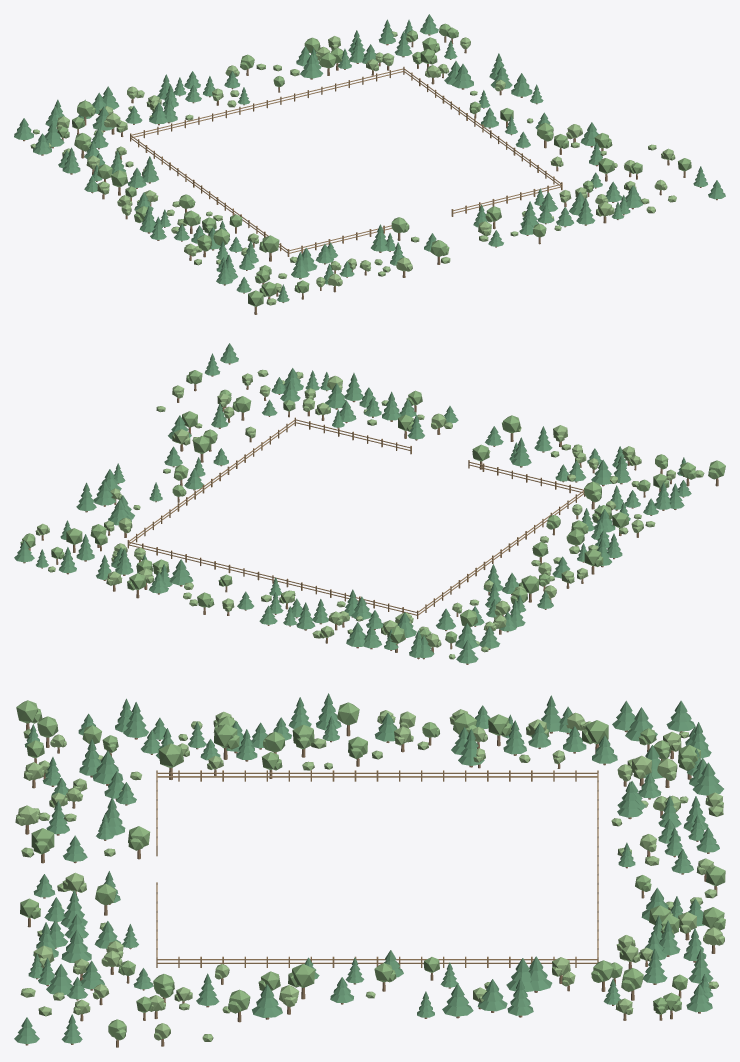
Rendered from Border.fbx.
3 renders of one model, top to bottom at view 1: azimuth 30°, elevation 25°; view 2: azimuth 150°, elevation 25°; view 3: azimuth 270°, elevation 25°, orthographic. The views are drawn at different scales.
Visible parts, largest first — view 1: Env_Fence; view 2: Env_Fence; view 3: Env_Fence, Env_PineA_229, Env_PineA_232, Env_LeafyA_045, Env_LeafyA_198, Env_PineA_103.
Boxes of the visible parts, <box> form: Env_Fence: <box>130,66,562,256</box>; Env_Fence: <box>127,417,585,618</box>; Env_Fence: <box>156,770,598,967</box>; Env_PineA_229: <box>252,984,282,1019</box>; Env_PineA_232: <box>442,983,473,1018</box>; Env_LeafyA_045: <box>214,724,239,759</box>; Env_LeafyA_198: <box>288,964,314,999</box>; Env_PineA_103: <box>692,762,723,797</box>.
Bounding box in the file's own units: 68.06 × 4.15 × 62.97.
